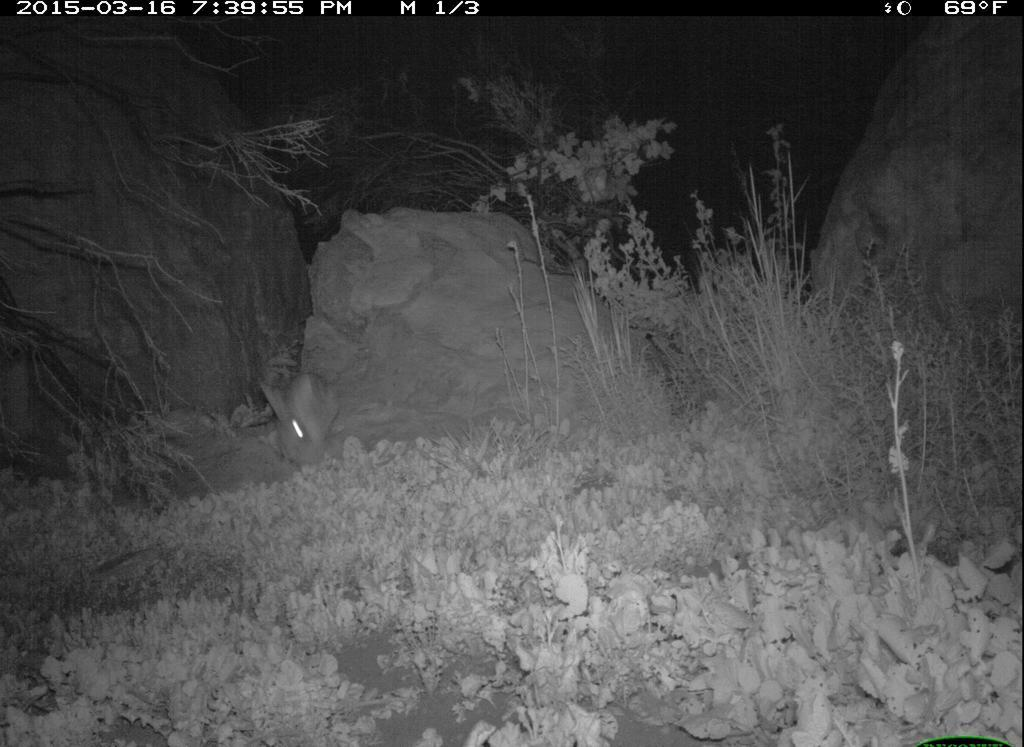rabbit: (248, 358, 360, 481)
